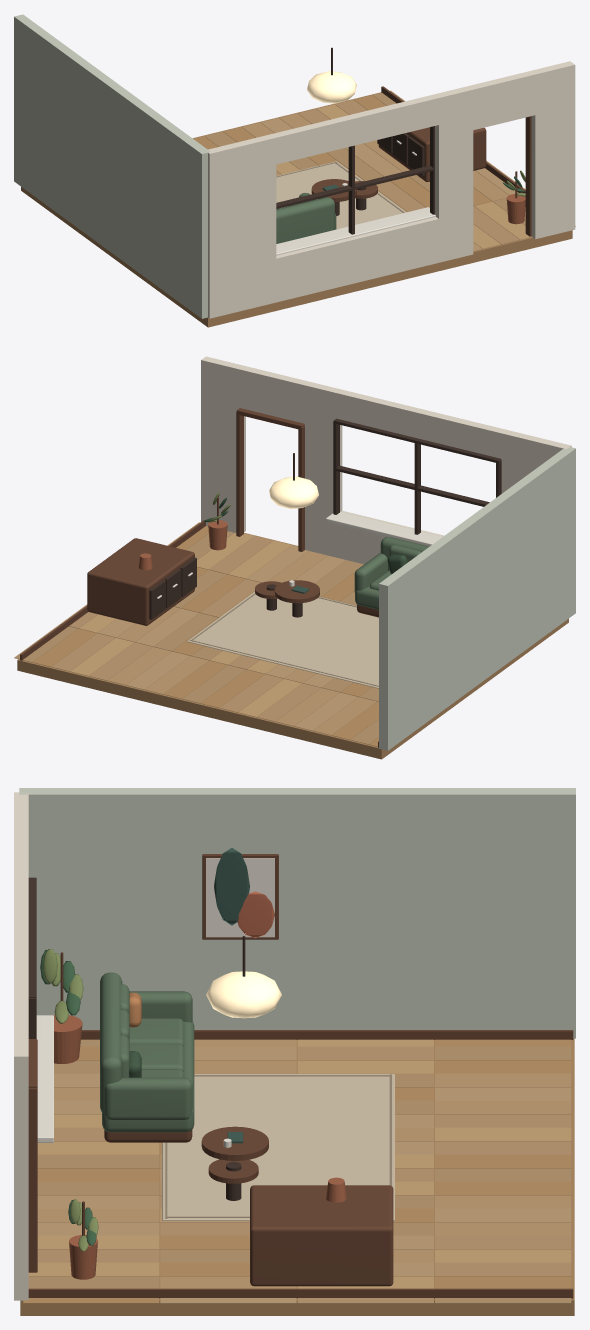
Rendered from reference.glb.
3 renders of one model, top to bottom at view 1: azimuth 30°, elevation 25°; view 2: azimuth 150°, elevation 25°; view 3: azimuth 270°, elevation 25°, orthographic. The views are drawn at different scales.
Visible parts, largest first — view 1: ground_room_00/wall_left, ground_room_00/wall_front_left, ground_room_00/wall_front_sill, ground_room_00/wall_front_right, ground_room_00/wall_front_pier, ground_room_00/wall_front_header, ground_room_00/floor, ground_room_00/wall_front_door_head, Linen rug, Sofa back, Stone window ledge, Paper pendant (+17 smaller); view 2: ground_room_00/wall_left, Linen rug, ground_room_00/wall_front_right, ground_room_00/floor, Oak sideboard, ground_room_00/wall_front_pier, ground_room_00/wall_front_header, ground_room_00/wall_front_door_head, ground_room_00/wall_front_left, ground_room_00/wall_front_sill, Stone window ledge, Paper pendant (+43 smaller); view 3: ground_room_00/wall_left, Linen rug, Oak sideboard, ground_room_00/floor, Oak skirting.001, ground_room_00/wall_front_right, Oak skirting, Sofa arm.001, Paper pendant, Sofa back, Framed paper, Stone window ledge (+68 smaller).
Boxes of the visible parts, x1=… form: ground_room_00/wall_left: x1=14, y1=14, x2=210, y2=318; ground_room_00/wall_front_left: x1=207, y1=134, x2=276, y2=318; ground_room_00/wall_front_sill: x1=276, y1=217, x2=438, y2=302; ground_room_00/wall_front_right: x1=531, y1=61, x2=575, y2=239; ground_room_00/wall_front_pier: x1=434, y1=86, x2=473, y2=262; ground_room_00/wall_front_header: x1=272, y1=94, x2=438, y2=164; ground_room_00/floor: x1=21, y1=92, x2=572, y2=327; ground_room_00/wall_front_door_head: x1=468, y1=71, x2=535, y2=130; Linen rug: x1=276, y1=161, x2=406, y2=229; Sofa back: x1=276, y1=197, x2=334, y2=243; Stone window ledge: x1=276, y1=207, x2=435, y2=255; Paper pendant: x1=307, y1=71, x2=356, y2=103; ground_room_00/wall_left: x1=379, y1=447, x2=575, y2=750; Linen rug: x1=187, y1=592, x2=378, y2=688; ground_room_00/wall_front_right: x1=201, y1=356, x2=245, y2=532; ground_room_00/floor: x1=17, y1=532, x2=568, y2=759; Oak sideboard: x1=87, y1=538, x2=194, y2=625; ground_room_00/wall_front_pier: x1=303, y1=381, x2=342, y2=557; ground_room_00/wall_front_header: x1=337, y1=389, x2=504, y2=458; ground_room_00/wall_front_door_head: x1=241, y1=366, x2=307, y2=423; ground_room_00/wall_front_left: x1=500, y1=429, x2=571, y2=493; ground_room_00/wall_front_sill: x1=337, y1=510, x2=443, y2=564; Stone window ledge: x1=326, y1=512, x2=442, y2=546; Paper pendant: x1=269, y1=476, x2=318, y2=508; ground_room_00/wall_left: x1=19, y1=788, x2=575, y2=1038; Linen rug: x1=162, y1=1074, x2=394, y2=1220; Oak sideboard: x1=250, y1=1185, x2=393, y2=1286; ground_room_00/floor: x1=20, y1=1038, x2=574, y2=1315; Oak skirting.001: x1=28, y1=1288, x2=573, y2=1298; ground_room_00/wall_front_right: x1=14, y1=1027, x2=28, y2=1300; Oak skirting: x1=81, y1=1030, x2=573, y2=1039; Sofa arm.001: x1=104, y1=1077, x2=192, y2=1119; Paper pendant: x1=206, y1=971, x2=281, y2=1018; Sofa back: x1=100, y1=972, x2=122, y2=1112; Framed paper: x1=206, y1=858, x2=274, y2=937; Stone window ledge: x1=36, y1=1015, x2=53, y2=1142.
Bounding box in the file's own units: 7.44 × 3.32 × 6.51.
